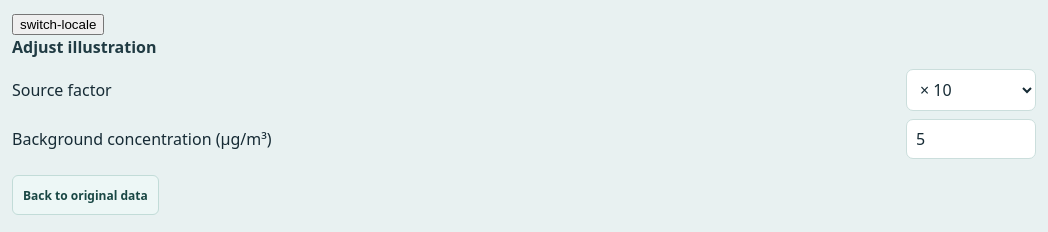
Scenario: back to original data › replaces half-typed background text with 0
Clear the number field labelled "Background concentration (µg/m³)": (971, 139) [906,119,1036,159]
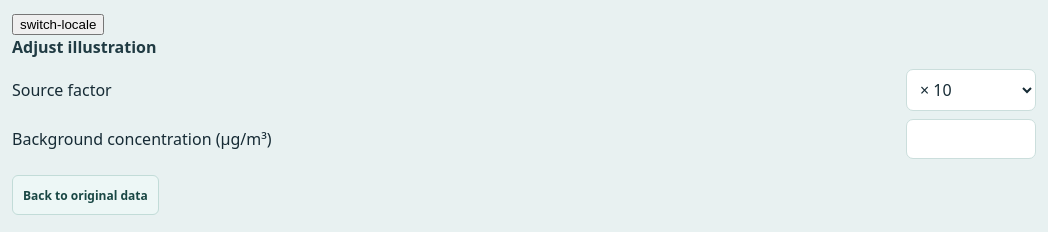
Click the button "Back to original data": (85, 195) [12,175,159,215]
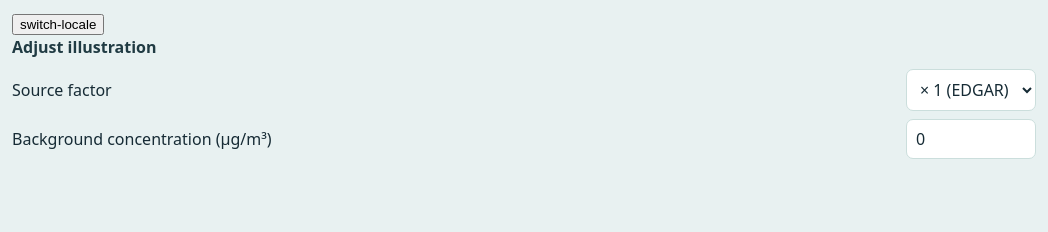
Result: the number field labelled "Background concentration (µg/m³)" holds "0" at [906,119,1036,159]
